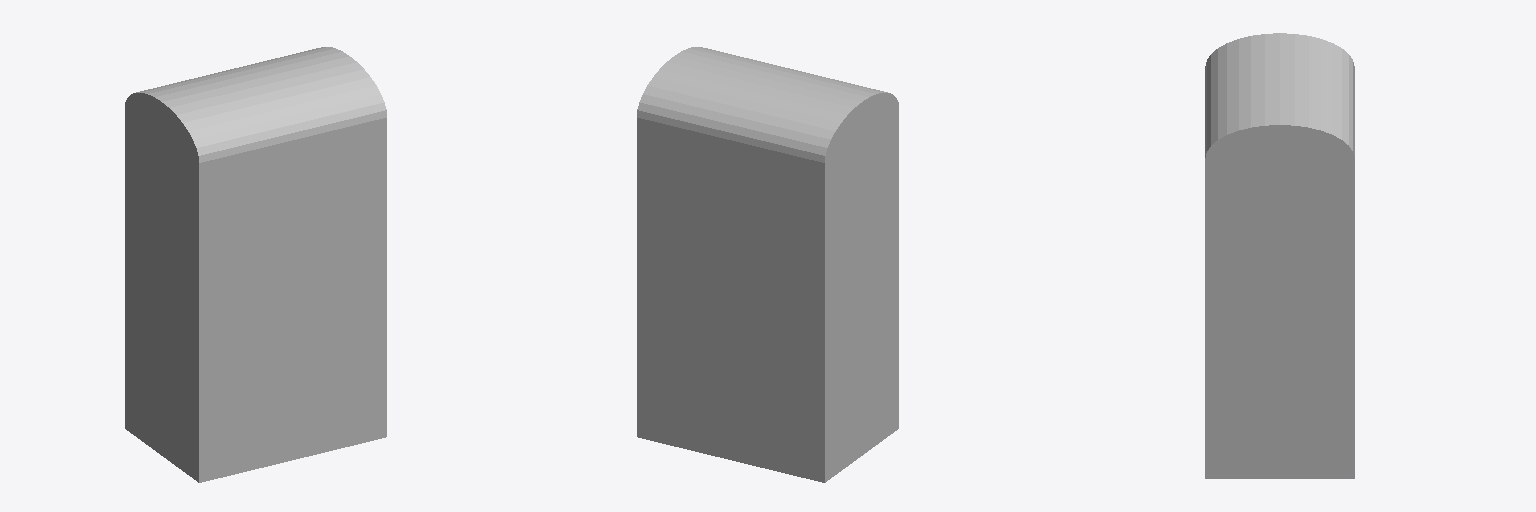
File: body_l_distal_pinvround_collision.obj
The picture shows the model from 3 angles: view 1: azimuth 30°, elevation 25°; view 2: azimuth 150°, elevation 25°; view 3: azimuth 270°, elevation 25°; orthographic projection.
Parts seen in each view (by area): view 1: body_l_distal_pinvround_collision_Cube.001; view 2: body_l_distal_pinvround_collision_Cube.001; view 3: body_l_distal_pinvround_collision_Cube.001.
Boxes of the visible parts, box(x1,y1,x2,y2) form: body_l_distal_pinvround_collision_Cube.001: box(125, 47, 386, 482); body_l_distal_pinvround_collision_Cube.001: box(637, 47, 898, 482); body_l_distal_pinvround_collision_Cube.001: box(1205, 33, 1354, 478).
Bounding box in the file's own units: 0.032 × 0.0575 × 0.022.